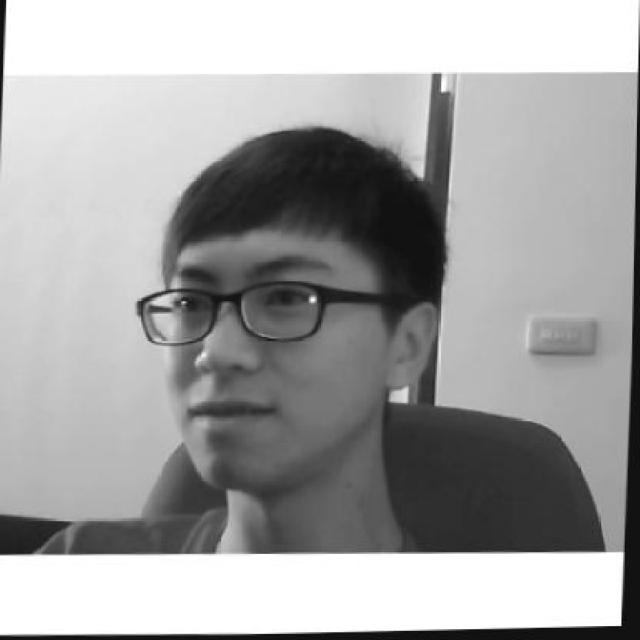attentif: (132, 123, 446, 495)
